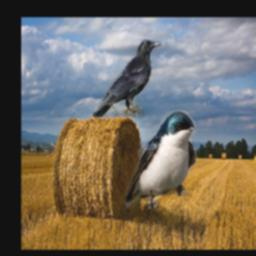Crow: (92, 39, 160, 117)
Swallow: (125, 111, 195, 210)
